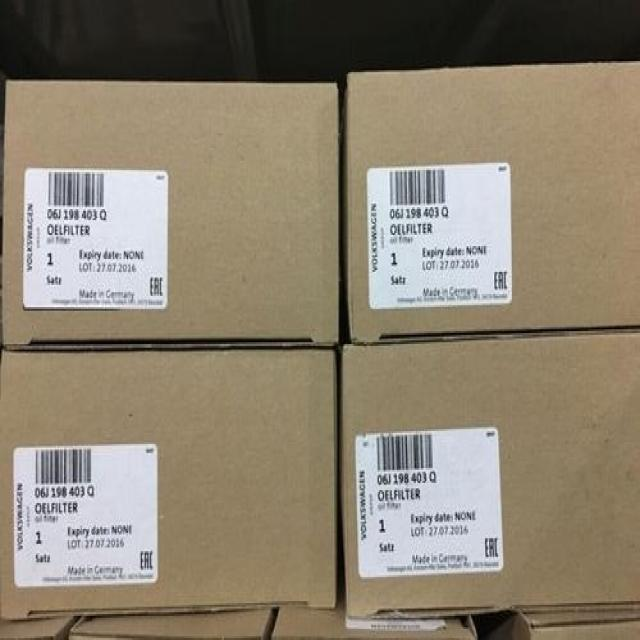box: (0, 346, 336, 625), (2, 80, 344, 350), (339, 329, 639, 622), (341, 63, 639, 341), (269, 523, 476, 637), (485, 601, 639, 638), (68, 612, 274, 638)
